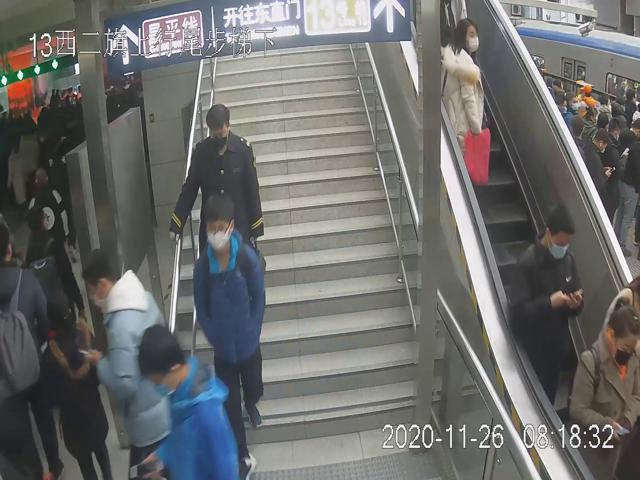person: (193, 192, 274, 475), (164, 99, 266, 300), (506, 201, 584, 410), (441, 14, 495, 192)
